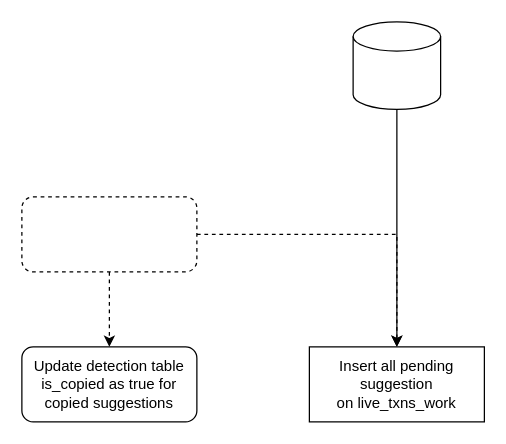
This 506x444 diagram has some shape labels left out. Each missing label, with the centre of its shape:
Cron Job for get all uncopied suggestions: point (109, 234)
Vision DB: point (396, 65)
